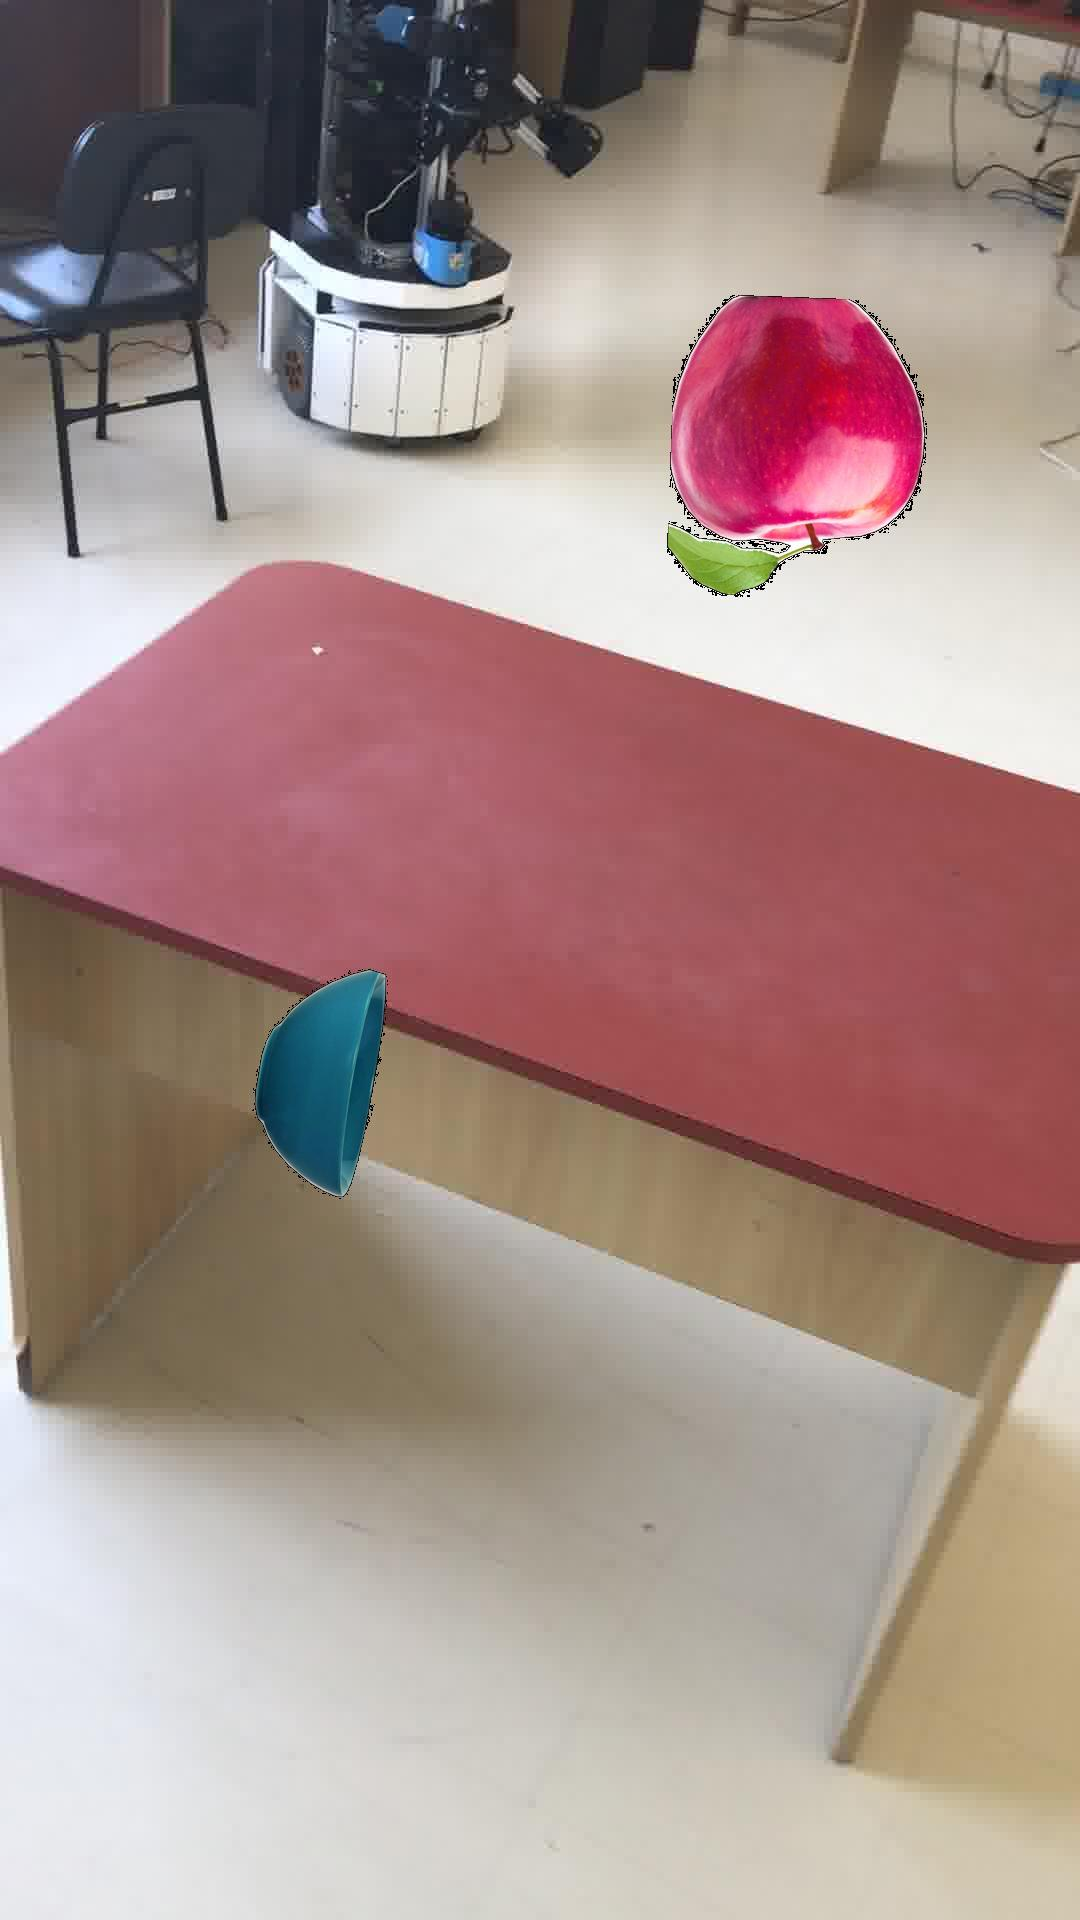apple: (666, 294, 926, 596)
bowl: (252, 968, 385, 1196)
